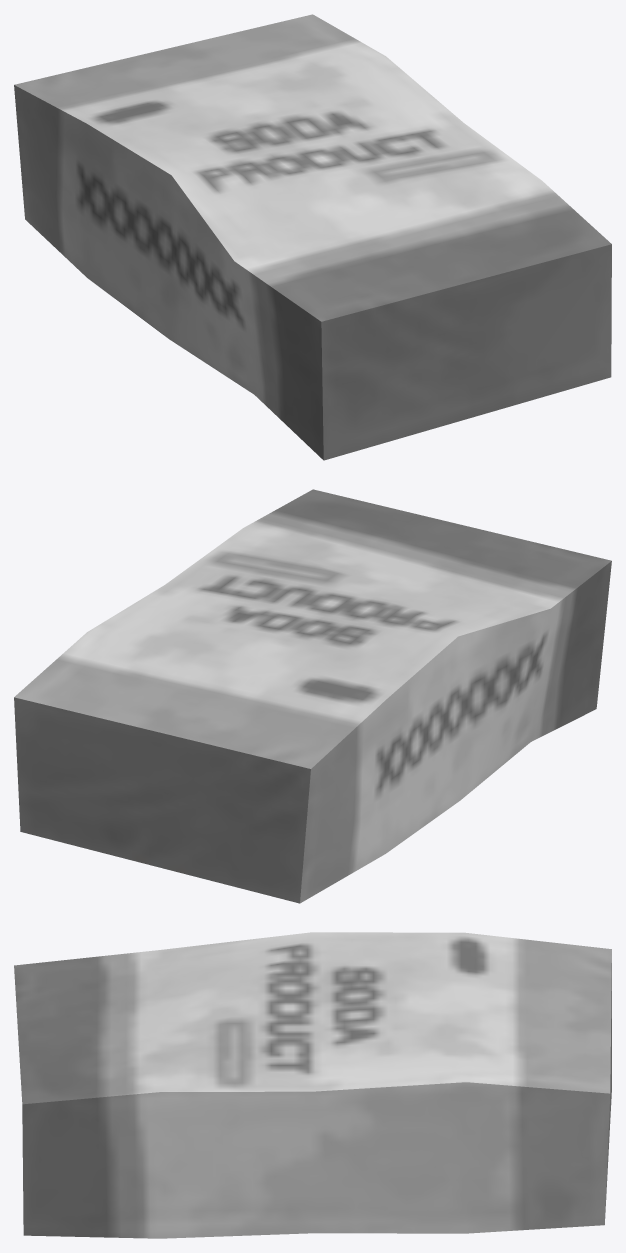
The model's file is Pfb_Bags__3.fbx.
The picture shows the model from 3 angles, top to bottom: view 1: azimuth 30°, elevation 25°; view 2: azimuth 150°, elevation 25°; view 3: azimuth 270°, elevation 25°; orthographic projection.
Parts seen in each view (by area): view 1: Mat_Bags_01_5; view 2: Mat_Bags_01_5; view 3: Mat_Bags_01_5.
Part boxes in pixels (x1=…): Mat_Bags_01_5: x1=14, y1=14, x2=611, y2=460; Mat_Bags_01_5: x1=14, y1=489, x2=611, y2=903; Mat_Bags_01_5: x1=14, y1=932, x2=611, y2=1238.
Size of the model in its own units: 0.5405 by 0.3032 by 0.9257.
1 material, 1 textured.
